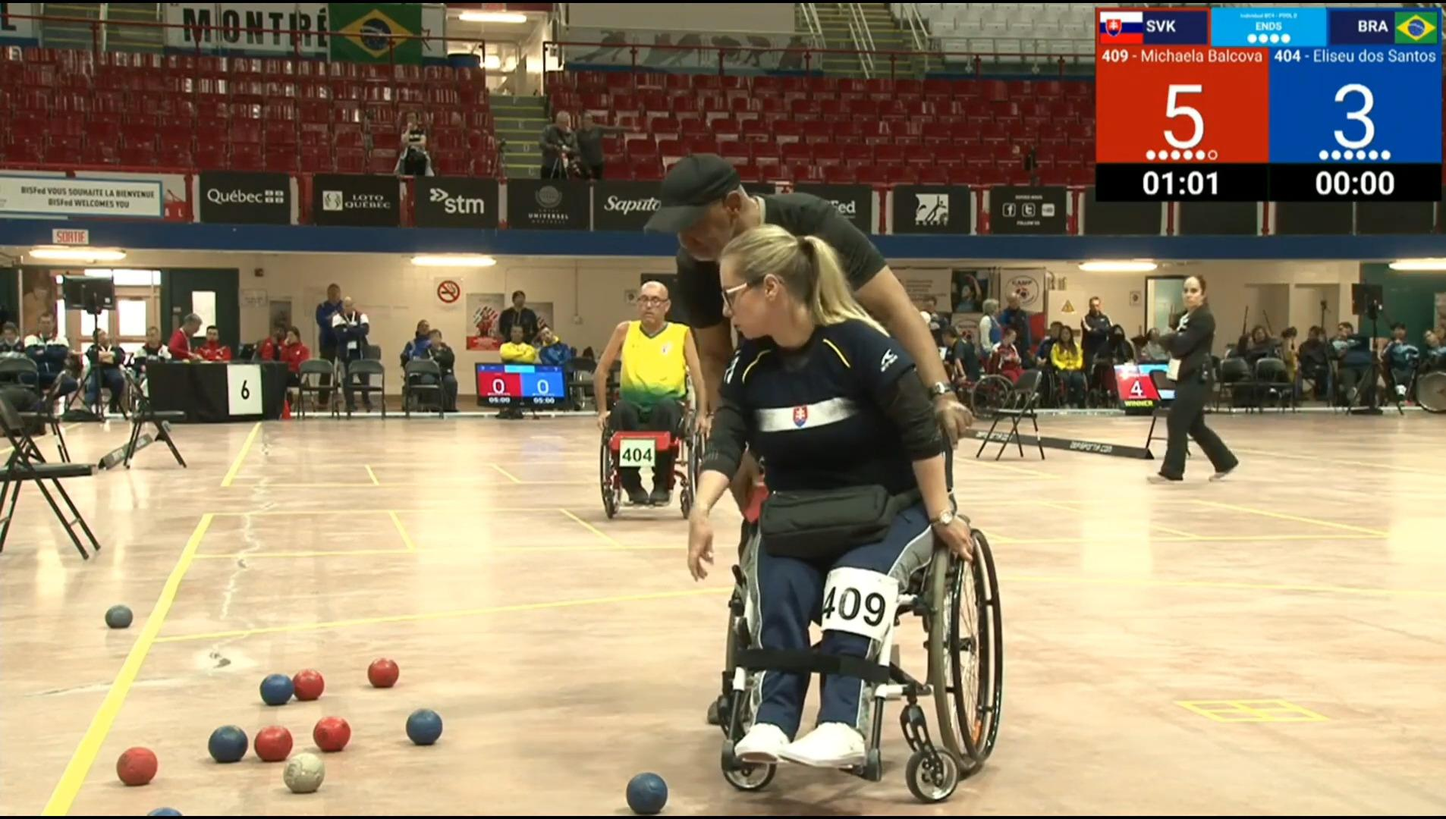blue_ball: (621, 769, 671, 817), (204, 722, 250, 769), (403, 707, 443, 748), (257, 671, 295, 708)
red_ball: (115, 744, 158, 788), (309, 713, 353, 754), (251, 723, 292, 765), (290, 665, 326, 703), (365, 654, 401, 691)
white_ball: (281, 750, 328, 797)
